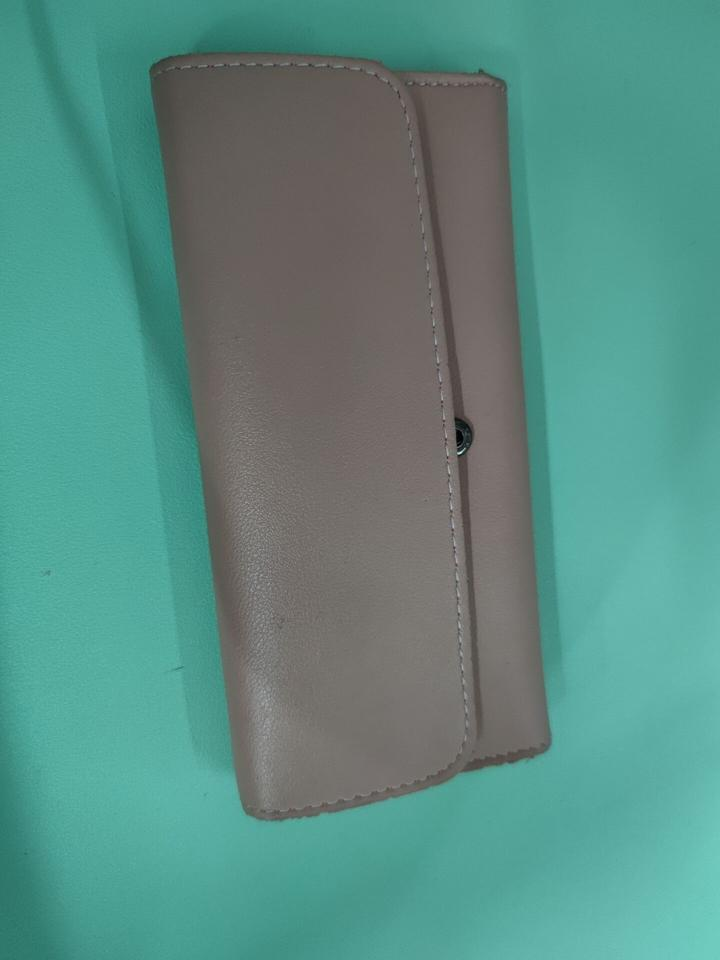wallet: (115, 45, 541, 833)
